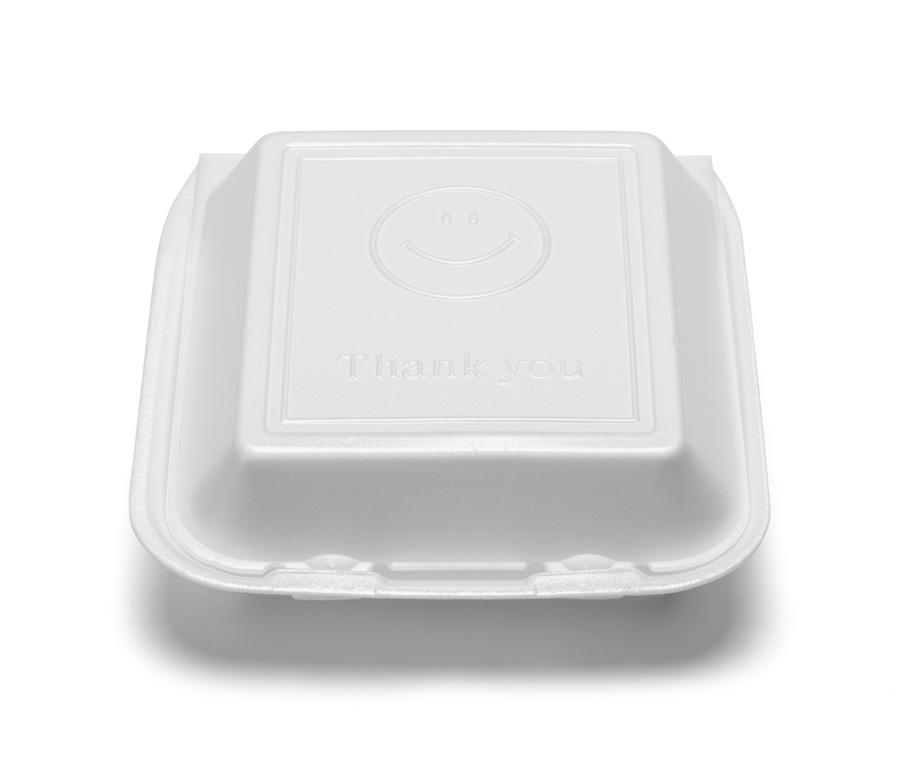PS: (76, 18, 854, 691)
